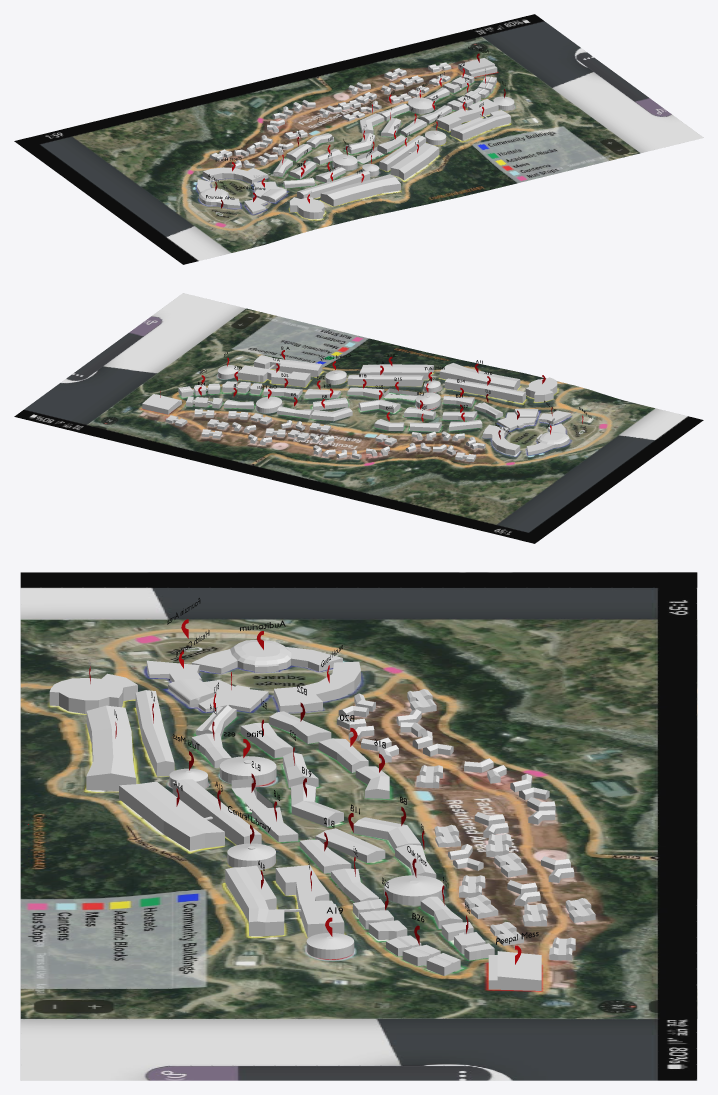
Rendered from mapm.glb.
3 renders of one model, top to bottom at view 1: azimuth 30°, elevation 25°; view 2: azimuth 150°, elevation 25°; view 3: azimuth 270°, elevation 25°, orthographic. The views are drawn at different scales.
Visible parts, largest first — view 1: B14, A17+A18, A13 + A14, A11, A10, Auditorium, Guest House, A9, Peepal Mess, Plane; view 2: B14, A17+A18, A13 + A14, A11, A10, Auditorium, Guest House, A9, Plane, Peepal Mess, B25, B19 (+2 smaller); view 3: B14, A13 + A14, A17+A18, A11, Auditorium, A9, Guest House, Plane, A10, Peepal Mess, B26, Oak Mess (+19 smaller).
Boxes of the visible parts, x1,y1,x2,y2 form: B14: (14, 14, 703, 264); A17+A18: (437, 99, 510, 140); A13 + A14: (379, 135, 439, 180); A11: (320, 174, 400, 206); A10: (297, 170, 370, 198); Auditorium: (197, 179, 240, 208); Guest House: (202, 167, 268, 183); A9: (289, 197, 324, 219); Peepal Mess: (458, 58, 497, 76); Plane: (253, 181, 286, 202); B14: (14, 293, 703, 543); A17+A18: (238, 355, 322, 387); A13 + A14: (347, 364, 433, 386); A11: (439, 363, 520, 390); A10: (444, 378, 525, 402); Auditorium: (526, 423, 569, 455); Guest House: (483, 425, 520, 455); A9: (525, 377, 557, 401); Plane: (497, 408, 538, 430); Peepal Mess: (142, 394, 181, 414); B25: (222, 381, 262, 394); B19: (358, 399, 400, 412); B14: (20, 572, 697, 1080); A13 + A14: (119, 779, 261, 850); A17+A18: (225, 865, 344, 937); A11: (86, 705, 135, 790); Auditorium: (191, 640, 342, 673); A9: (49, 673, 137, 713); Guest House: (274, 661, 360, 712); Plane: (168, 679, 268, 712); A10: (135, 690, 174, 776); Peepal Mess: (488, 951, 541, 990); B26: (386, 935, 460, 975); Oak Mess: (384, 875, 443, 905).
Bounding box in the file's own units: 1600 × 90.46 × 900.
3 materials, 1 textured.
